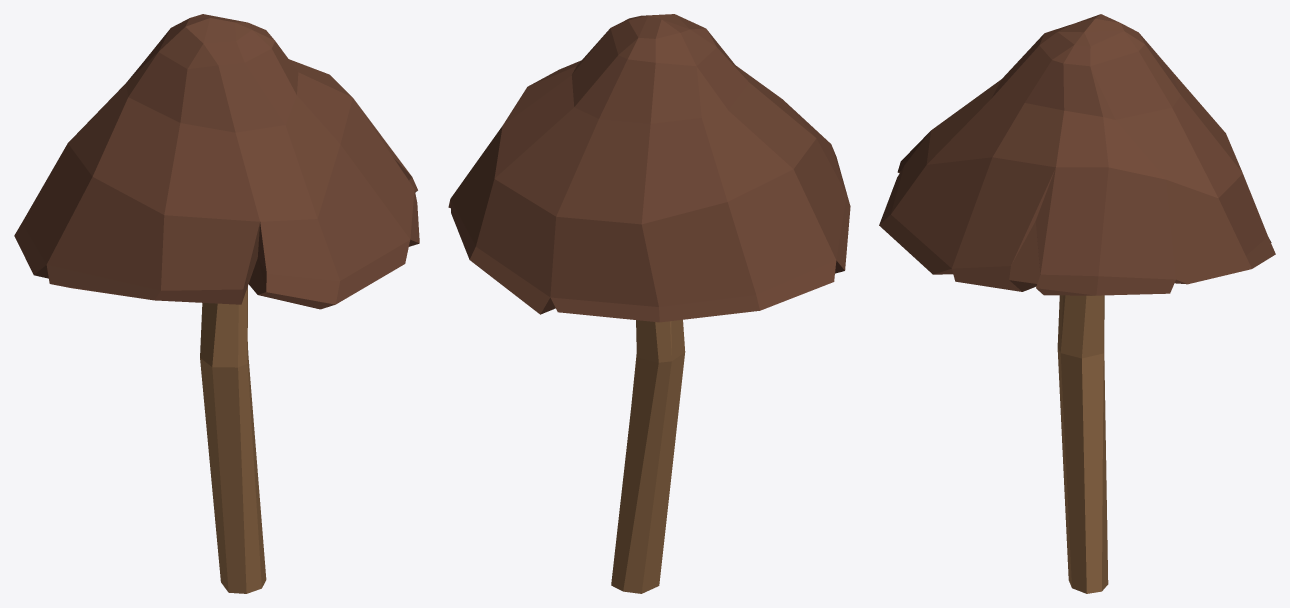
File: Mushroom_00.FBX
3 renders of one model, left to right at view 1: azimuth 30°, elevation 25°; view 2: azimuth 150°, elevation 25°; view 3: azimuth 270°, elevation 25°, orthographic. The views are drawn at different scales.
Parts seen in each view (by area): view 1: Mushroom_00; view 2: Mushroom_00; view 3: Mushroom_00.
Part boxes in pixels (box(x1,y1,x2,y2)): Mushroom_00: box(14, 14, 419, 593); Mushroom_00: box(448, 14, 850, 593); Mushroom_00: box(879, 14, 1275, 593).
Bounding box in the file's own units: 1.42 × 2.17 × 1.42.
